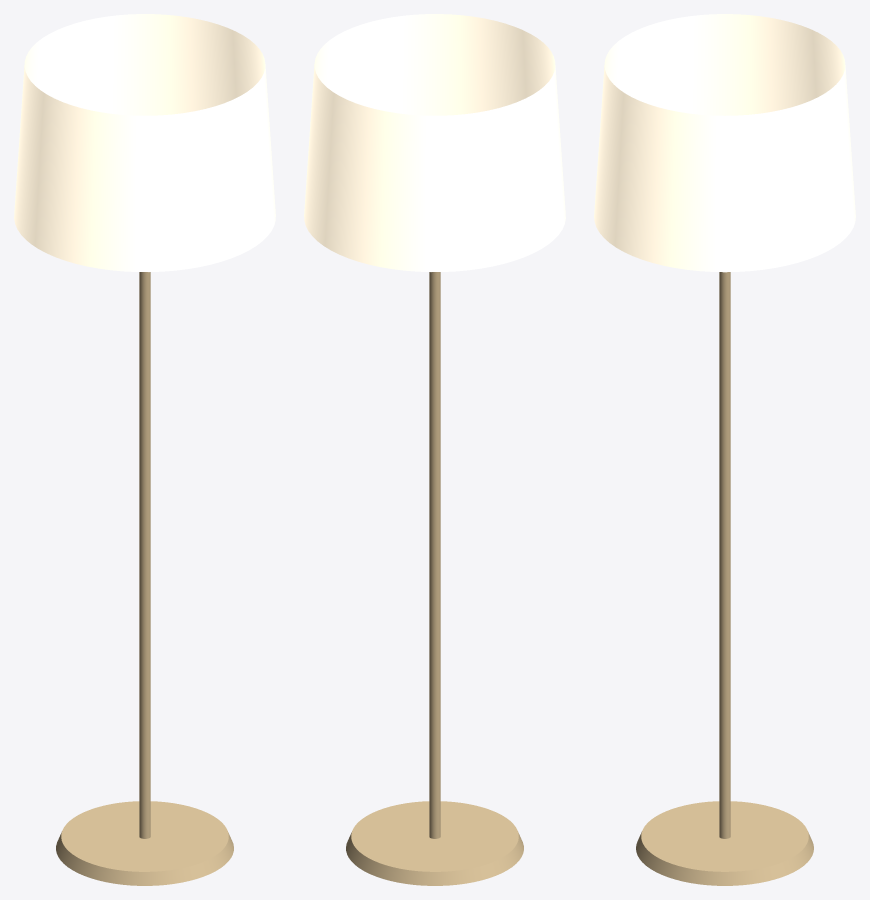
Rendered from floor_lamp_drum.gltf.
3 views of the same model, side by side, from view 1: azimuth 30°, elevation 25°; view 2: azimuth 150°, elevation 25°; view 3: azimuth 270°, elevation 25° (orthographic).
Visible parts, largest first — view 1: lamp_shade_linen, brushed_brass; view 2: lamp_shade_linen, brushed_brass; view 3: lamp_shade_linen, brushed_brass.
Part boxes in pixels (left/top/right/bottom): lamp_shade_linen: left=14, top=14, right=275, bottom=271; brushed_brass: left=56, top=272, right=233, bottom=885; lamp_shade_linen: left=304, top=14, right=565, bottom=271; brushed_brass: left=346, top=272, right=523, bottom=885; lamp_shade_linen: left=594, top=14, right=855, bottom=272; brushed_brass: left=636, top=272, right=813, bottom=885.
Bounding box in the file's own units: 0.5 × 1.65 × 0.5.
